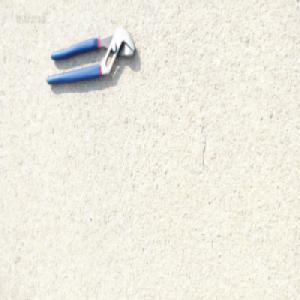Pliers: (44, 23, 136, 86)
